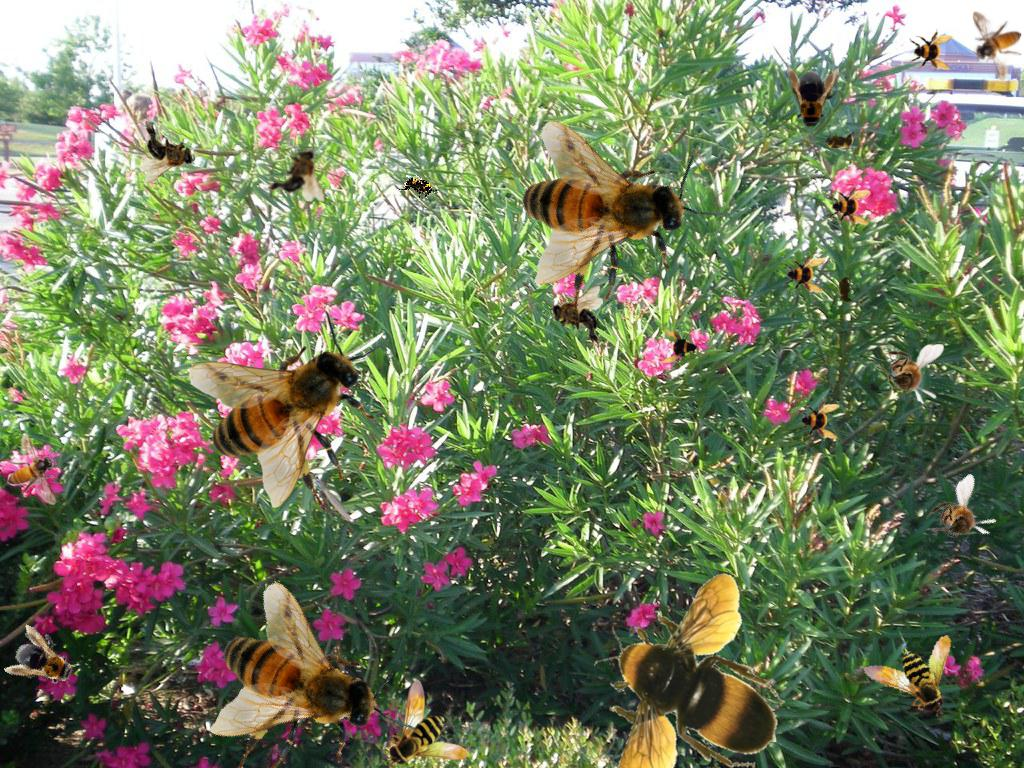Bee: (465, 71, 748, 353), (160, 546, 441, 768), (188, 309, 392, 508), (594, 572, 785, 768), (856, 619, 960, 719), (914, 472, 1007, 564), (386, 679, 468, 767), (3, 623, 87, 699), (263, 141, 334, 205), (874, 344, 944, 405), (972, 11, 1022, 82), (7, 434, 57, 505), (787, 65, 839, 133), (142, 121, 195, 183), (550, 286, 603, 348), (782, 251, 826, 295), (827, 183, 871, 227), (796, 397, 840, 441), (659, 327, 703, 371), (909, 28, 953, 72), (396, 169, 442, 205), (819, 130, 859, 152), (835, 269, 857, 309)
